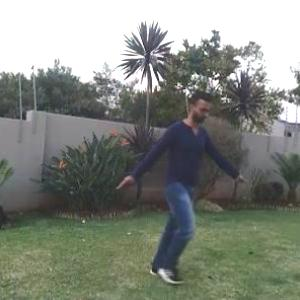land: (90, 75, 258, 291)
